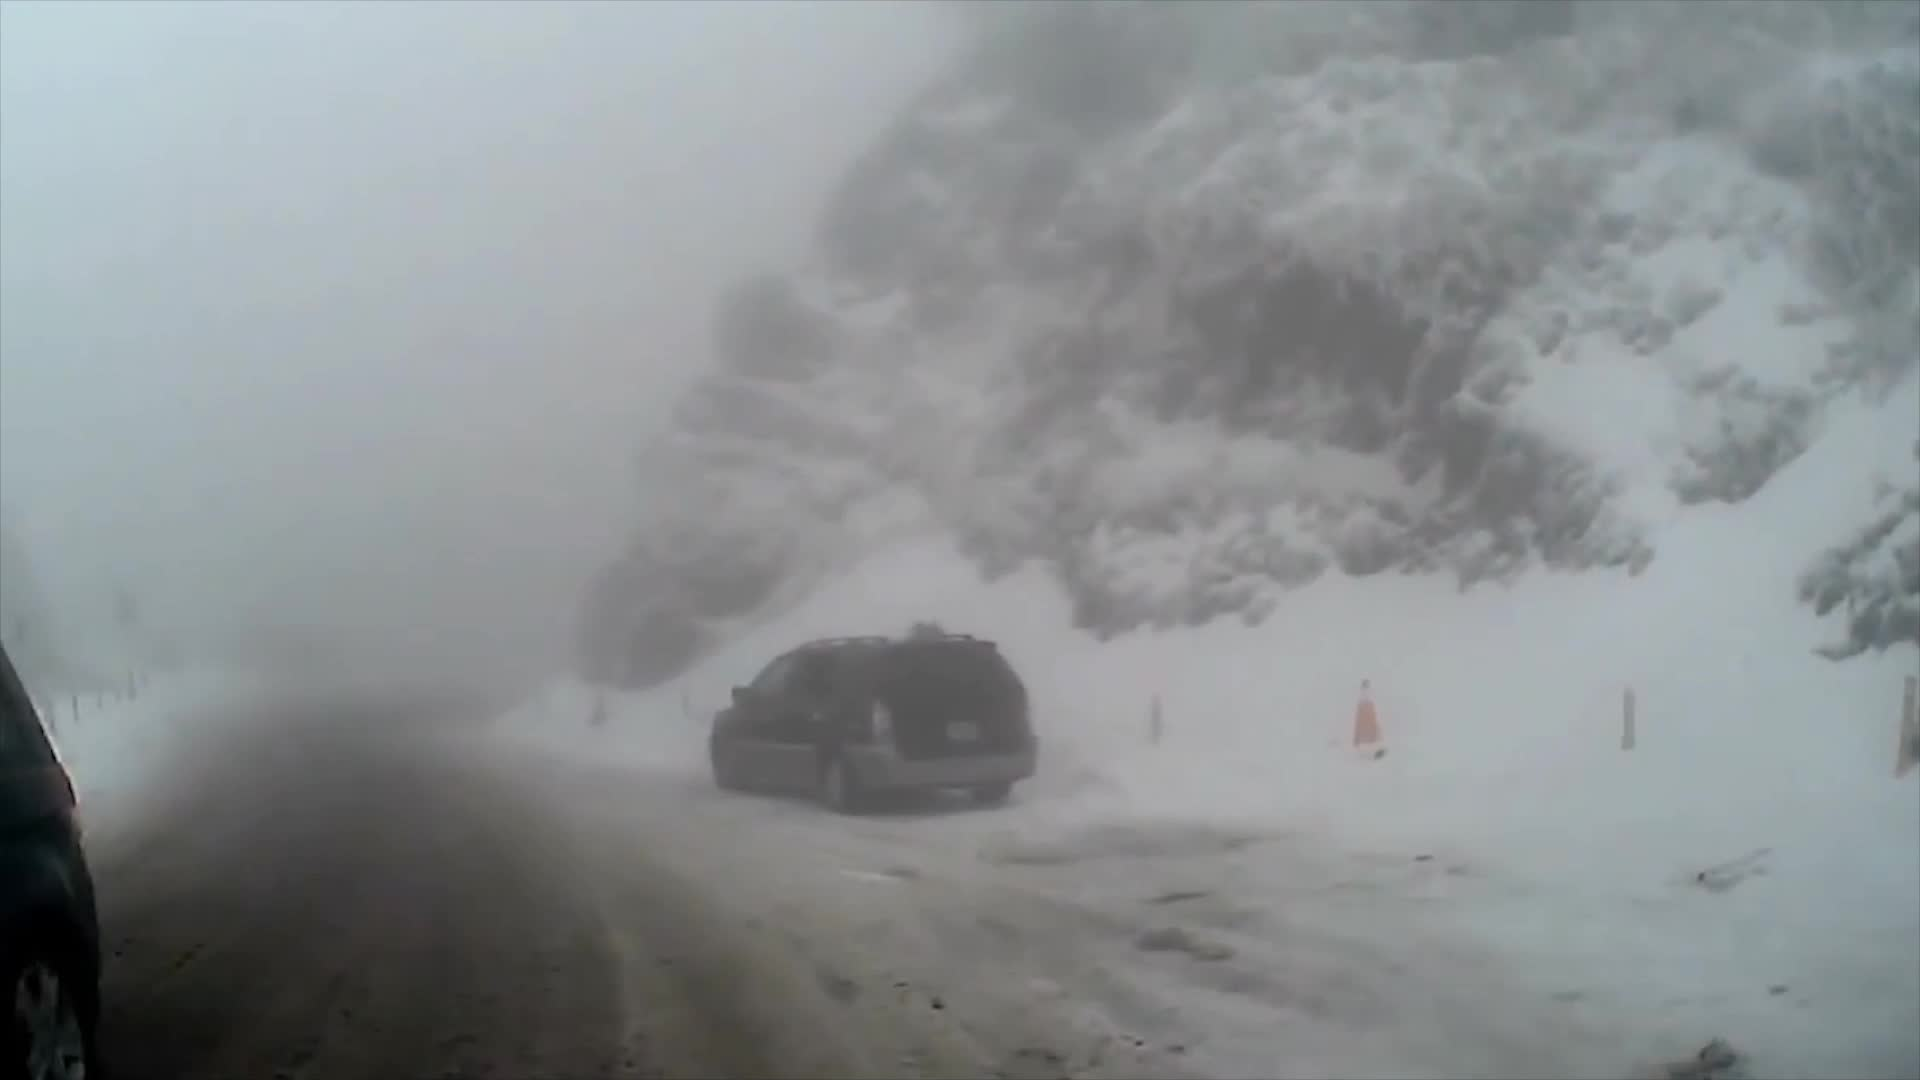vehicle: (707, 633, 1038, 811), (0, 640, 107, 1079)
